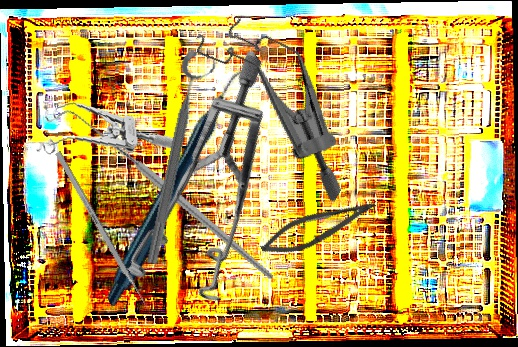Fixation Ring: (139, 49, 221, 269)
Handpiece: (44, 67, 314, 308)
Hook Surgical: (57, 63, 274, 329)
Micro Scissor: (255, 185, 381, 267)
Pusher: (54, 150, 155, 319)
Speculum: (66, 48, 361, 334), (157, 0, 392, 206), (29, 89, 177, 165)
